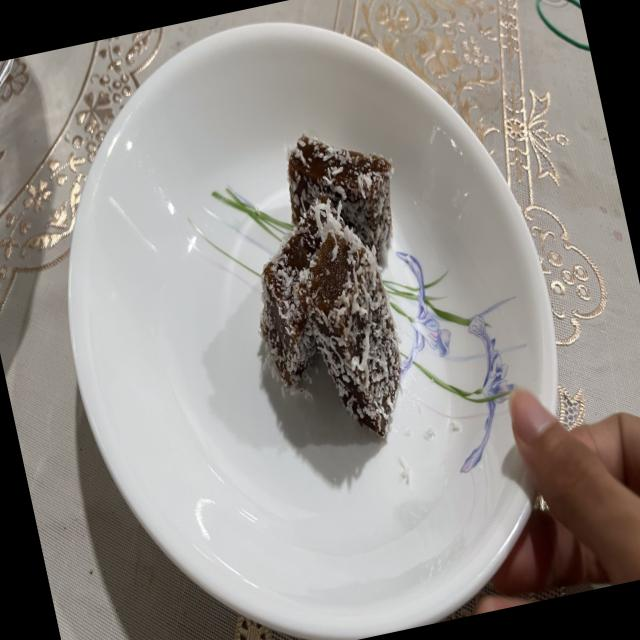kaswi: (297, 224, 401, 436), (260, 193, 357, 393), (287, 135, 392, 260)
